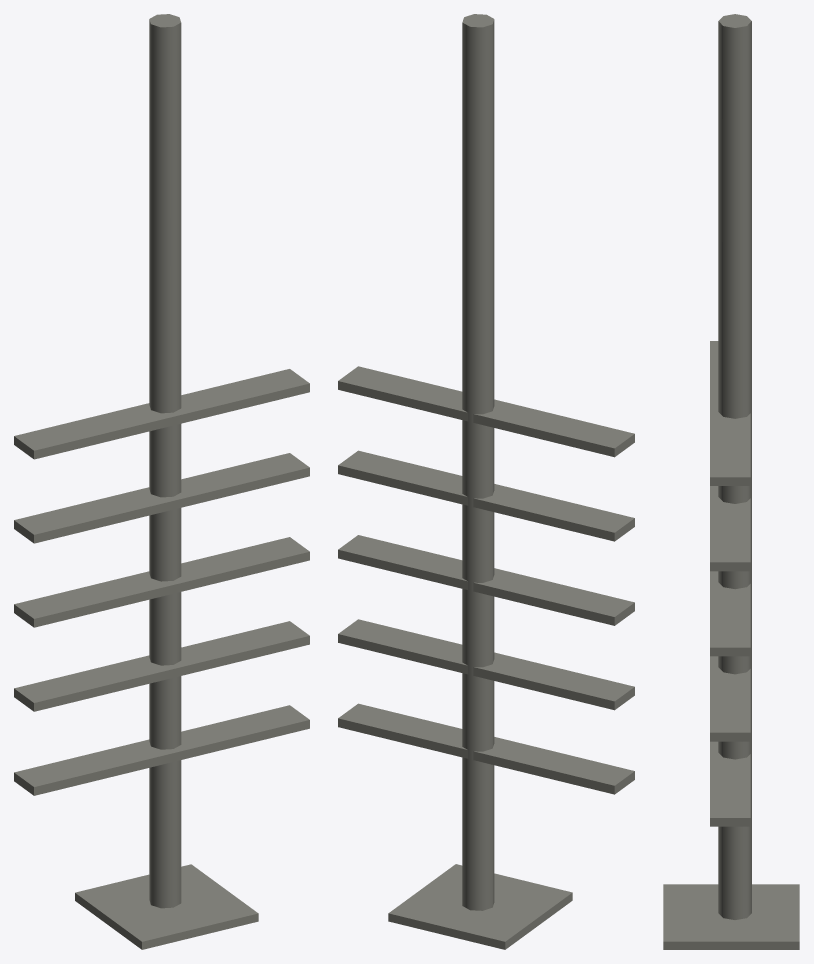
The model's file is bld_roof_element_03.fbx.
The picture shows the model from 3 angles, left to right: view 1: azimuth 30°, elevation 25°; view 2: azimuth 150°, elevation 25°; view 3: azimuth 270°, elevation 25°; orthographic projection.
Parts seen in each view (by area): view 1: bld_roof_element_03; view 2: bld_roof_element_03; view 3: bld_roof_element_03.
Boxes of the visible parts, x1,y1,x2,y2 form: bld_roof_element_03: [14, 14, 309, 949]; bld_roof_element_03: [338, 14, 634, 949]; bld_roof_element_03: [663, 14, 799, 949].
Size of the model in its own units: 107 by 328 by 45.
